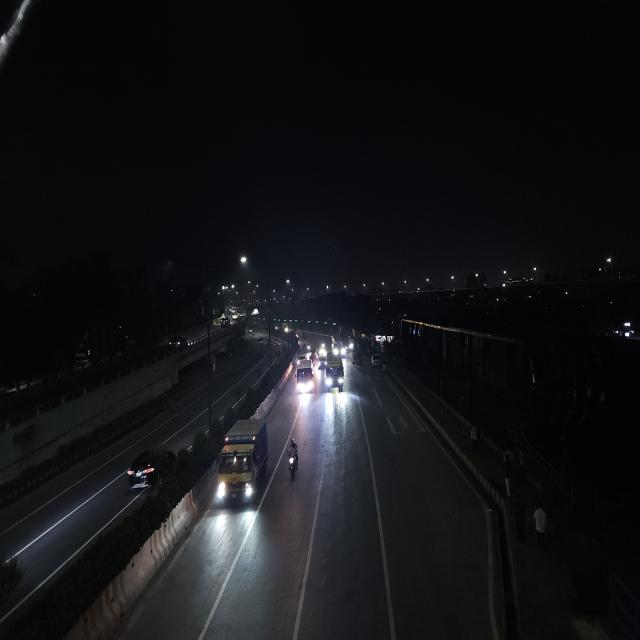bus: (294, 355, 315, 396), (324, 354, 345, 394)
car: (122, 443, 176, 495), (167, 334, 187, 349), (370, 352, 384, 369), (220, 315, 230, 330)
motorcycle: (284, 438, 302, 483), (274, 339, 279, 347)
pedestrian: (529, 502, 551, 554)
truck: (215, 416, 271, 510)
